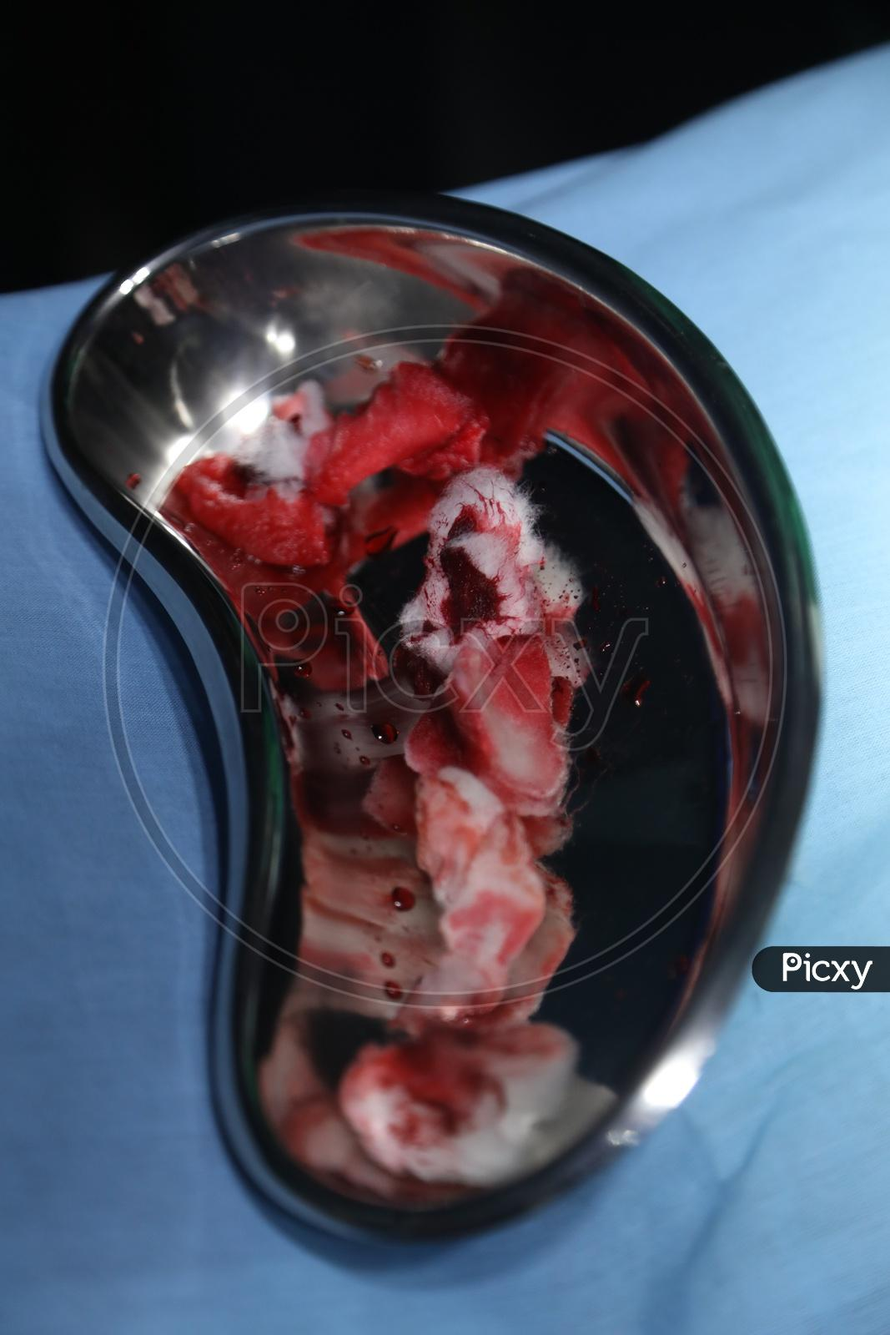cotton: (0, 285, 889, 1334)
